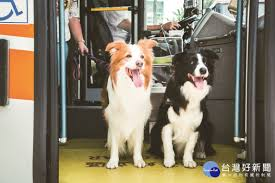dog: (104, 39, 156, 92), (168, 49, 219, 96)
